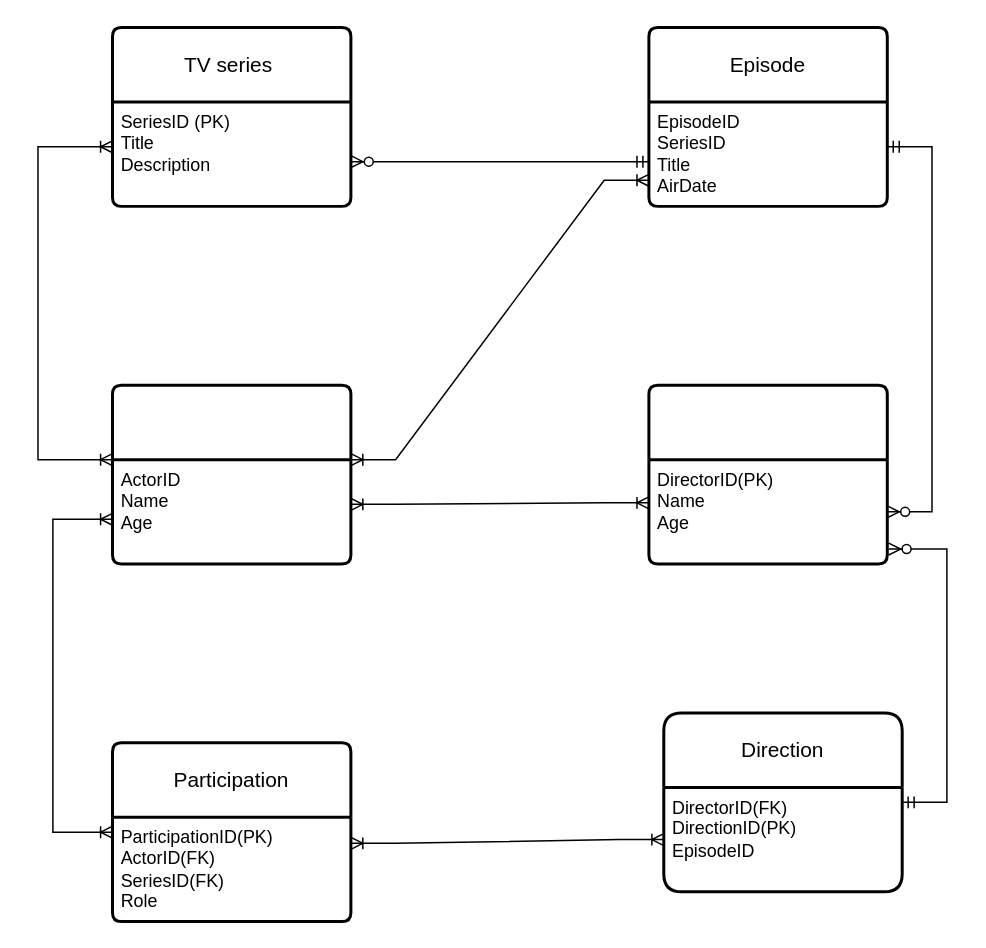
Image size: 986x948. Some labels were removed from this diagram. The box of each missing label's shape, as (x1, y1, x2, y2) in pixels:
Actors: (110, 383, 352, 565)
Directors: (647, 383, 888, 565)
